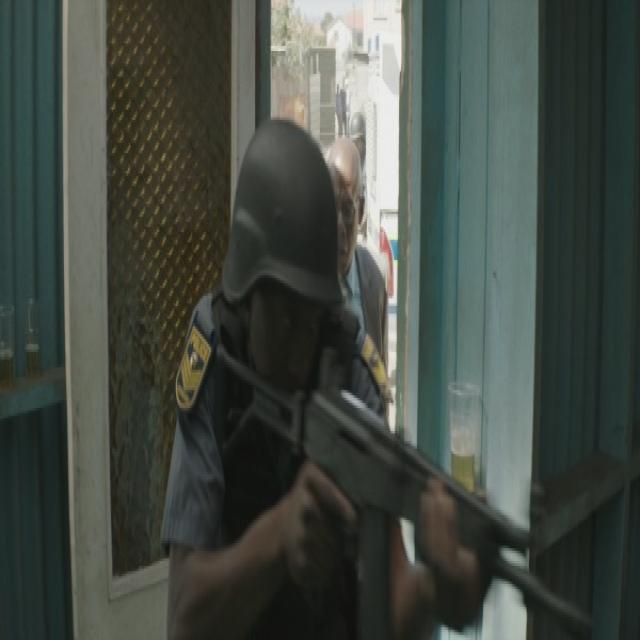rifle: (208, 331, 598, 636)
